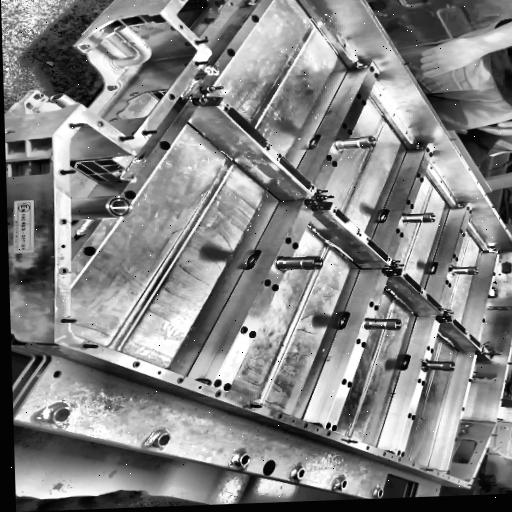b_casing: (46, 0, 512, 489)
